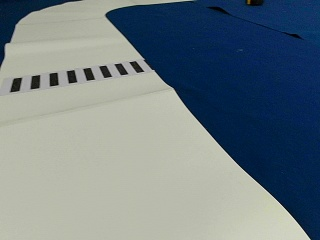crosswalk: (8, 61, 142, 91)
